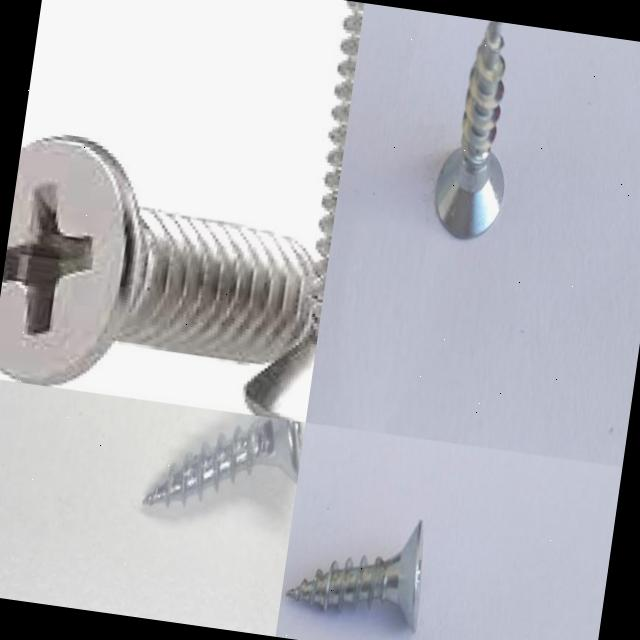Screw: (0, 137, 323, 388), (286, 520, 423, 631), (436, 21, 505, 237), (143, 416, 303, 505)
